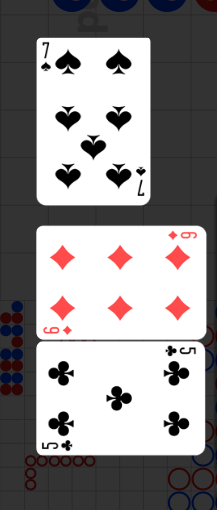5C: (41, 438, 75, 452)
6D: (166, 229, 198, 241)
7S: (40, 41, 53, 74)
